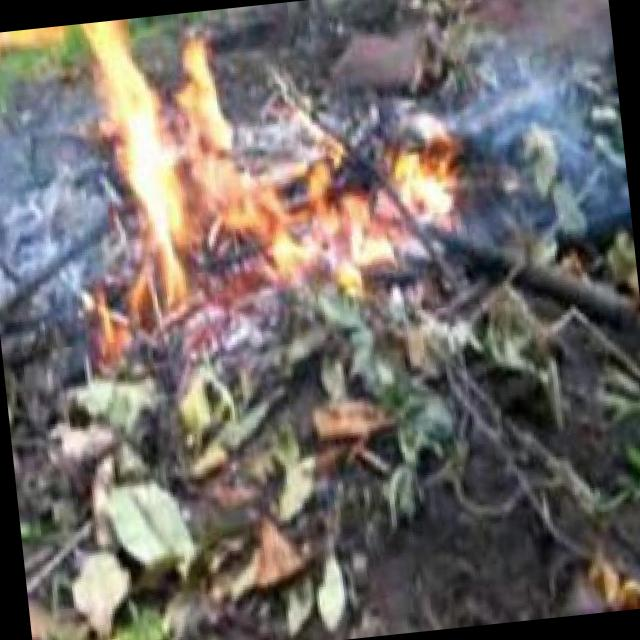Fire: (54, 6, 282, 347), (166, 118, 478, 290)
